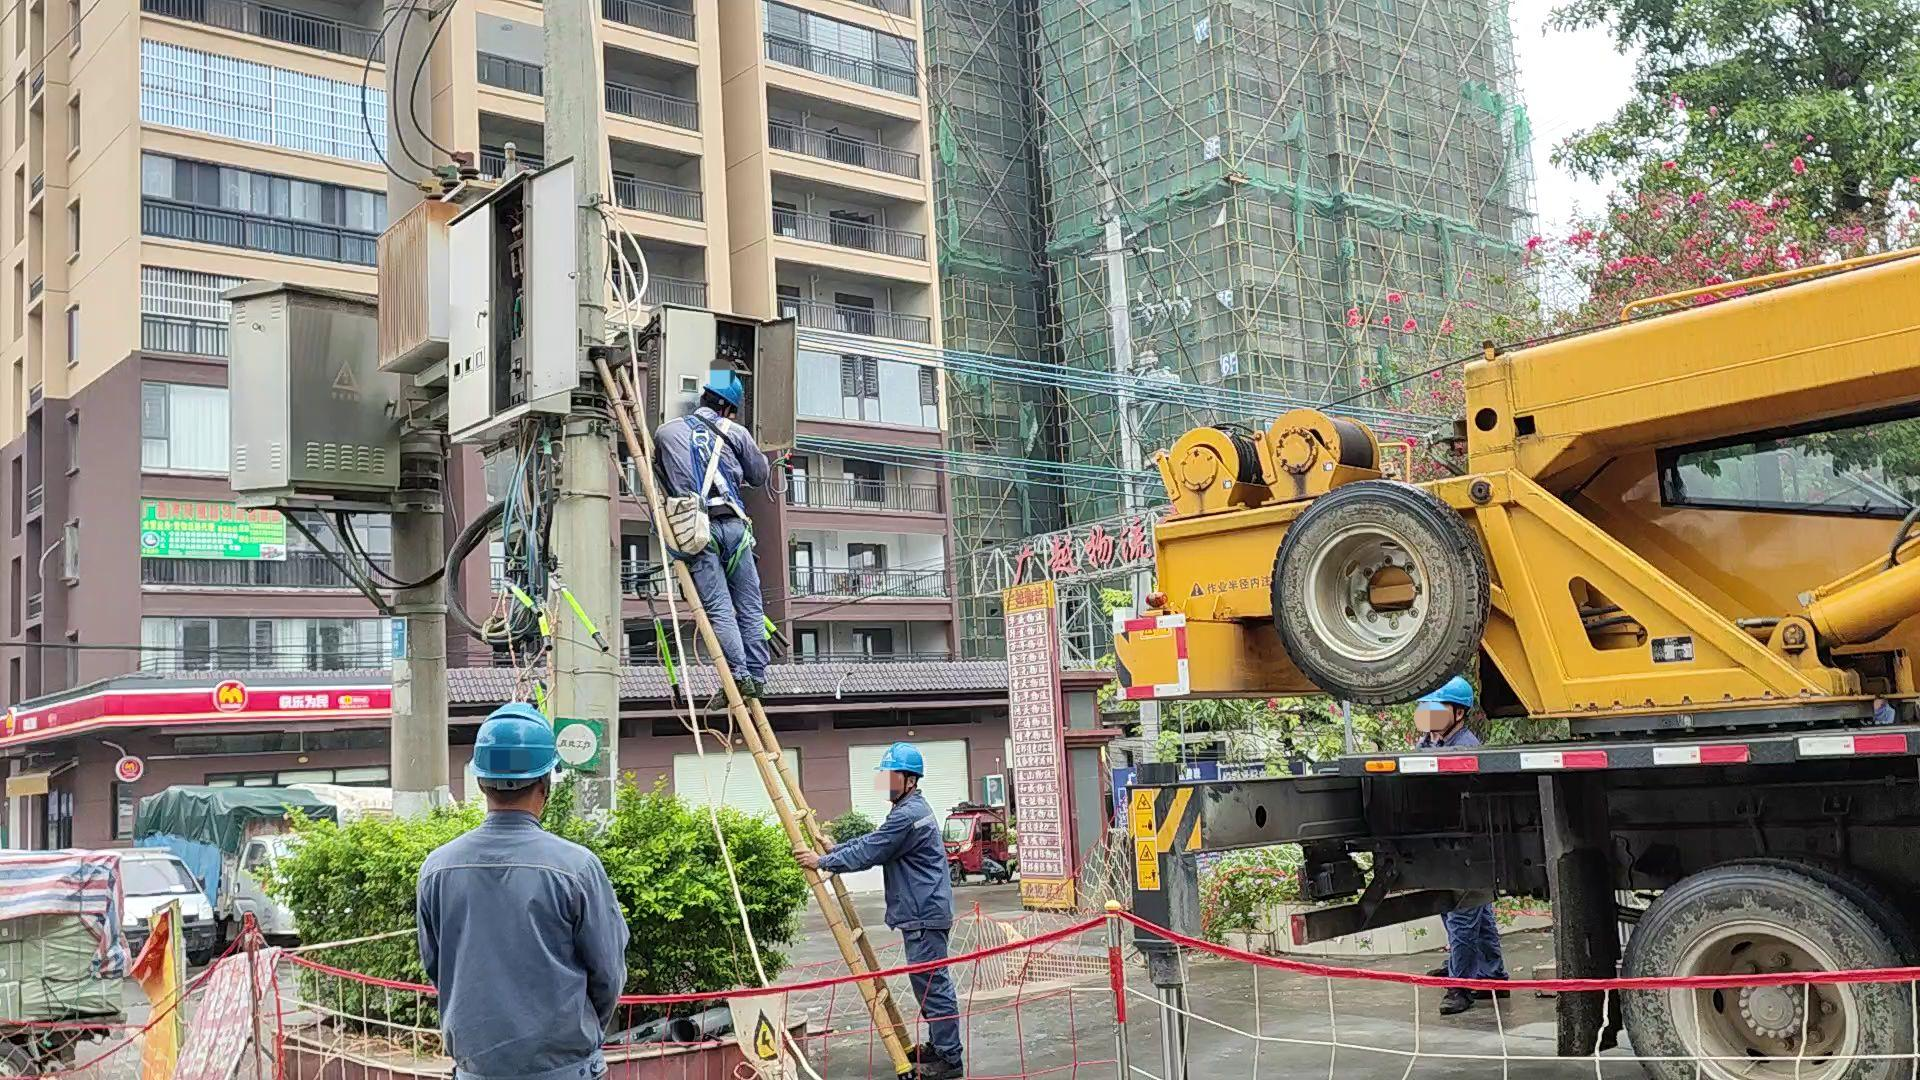halt: (469, 704, 563, 804), (1422, 679, 1480, 738), (877, 746, 928, 800), (702, 373, 746, 417)
